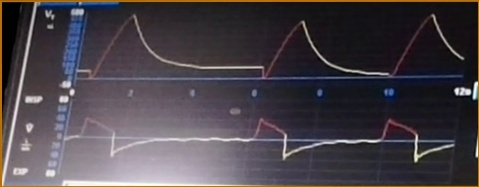Flow: (70, 111, 452, 174)
Leakage Volume: (83, 11, 463, 85)
